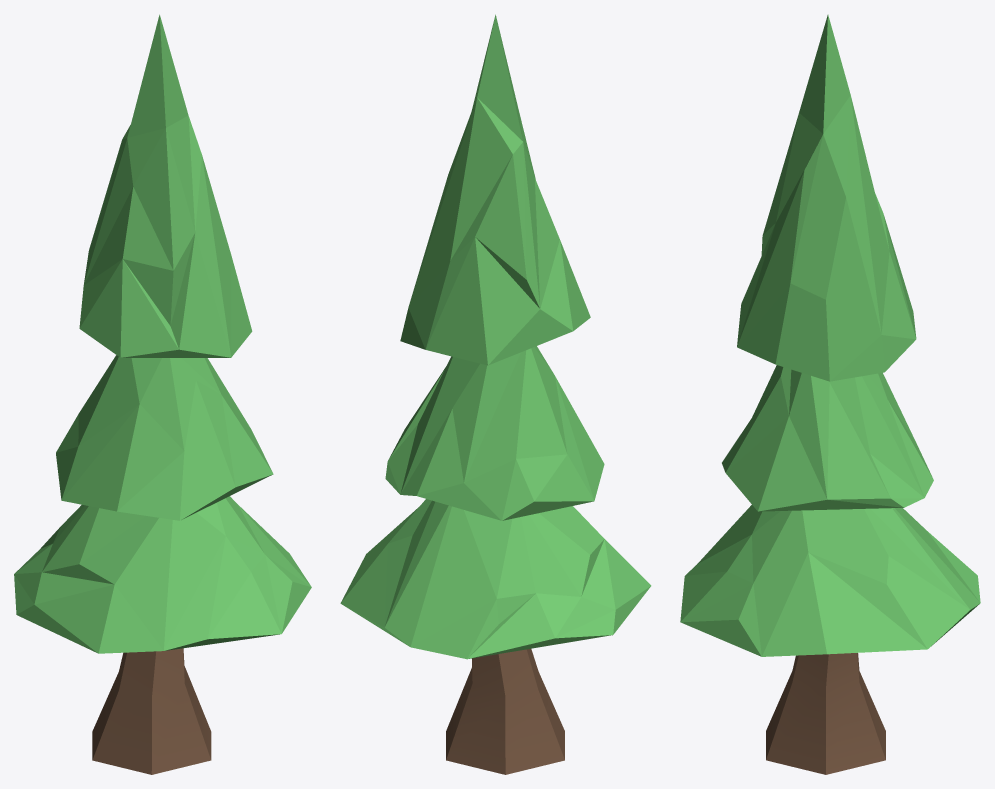
File: Arbre_Mixte_5.fbx
3 renders of one model, left to right at view 1: azimuth 30°, elevation 25°; view 2: azimuth 150°, elevation 25°; view 3: azimuth 270°, elevation 25°, orthographic.
Parts seen in each view (by area): view 1: pCylinder8, pCylinder11; view 2: pCylinder8, pCylinder11; view 3: pCylinder8, pCylinder11.
Boxes of the visible parts, x1,y1,x2,y2 form: pCylinder8: [14, 14, 311, 653]; pCylinder11: [92, 648, 211, 774]; pCylinder8: [340, 14, 651, 659]; pCylinder11: [446, 648, 564, 774]; pCylinder8: [680, 14, 980, 656]; pCylinder11: [766, 653, 885, 774].
Bounding box in the file's own units: 1.87 × 5.02 × 1.86.
